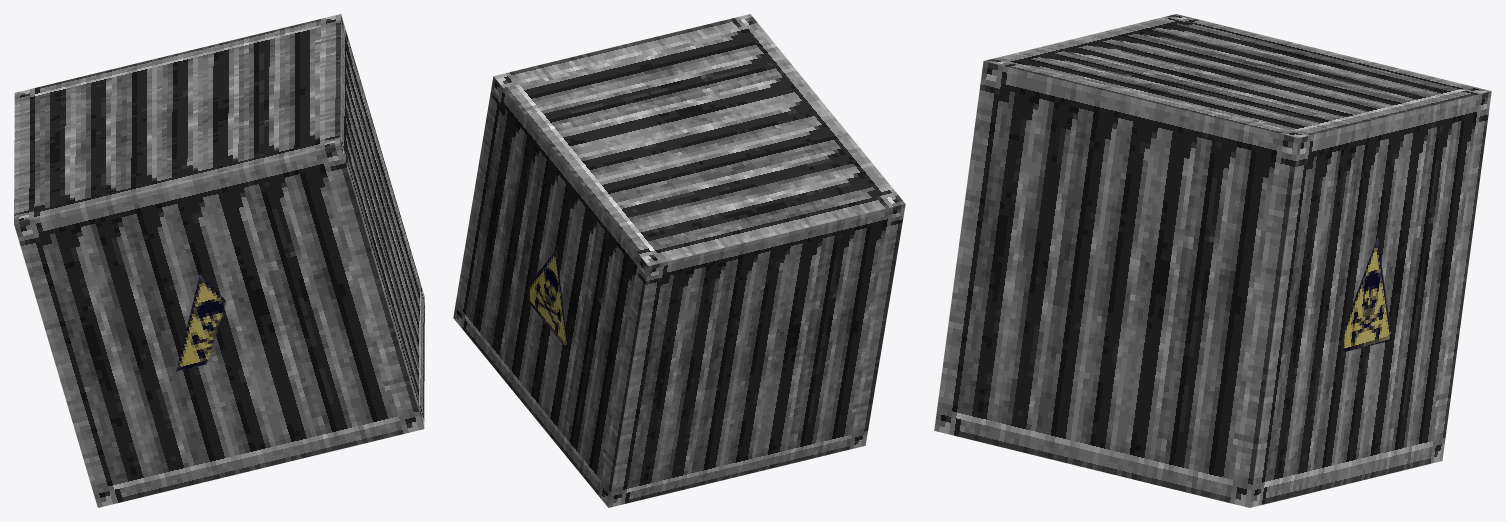
File: primary_168.glb
3 renders of one model, left to right at view 1: azimuth 30°, elevation 25°; view 2: azimuth 150°, elevation 25°; view 3: azimuth 270°, elevation 25°, orthographic. The views are drawn at different scales.
Parts seen in each view (by area): view 1: Object; view 2: Object; view 3: Object.
Boxes of the visible parts, bbox=[...] form: Object: bbox=[14, 14, 424, 507]; Object: bbox=[453, 14, 905, 507]; Object: bbox=[934, 14, 1491, 507].
Size of the model in its own units: 2.14 by 1.68 by 1.99.
2 materials, 2 textured.
